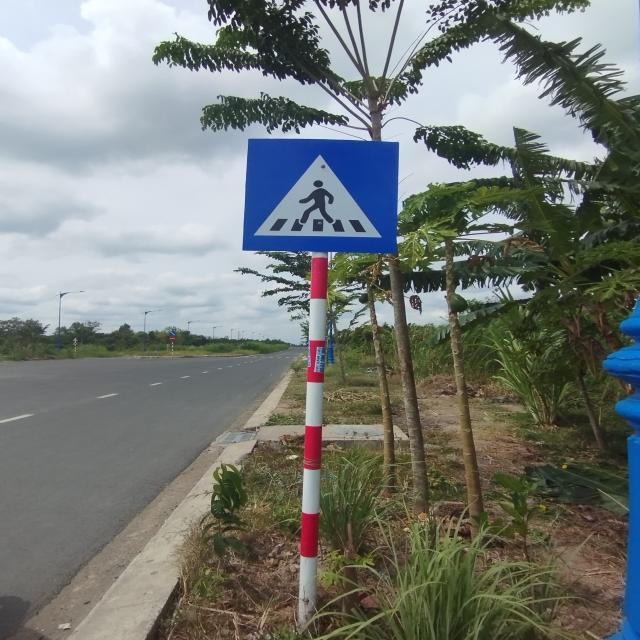Giao_Nhau_Duong_Uu_Tien: (241, 138, 400, 252)
